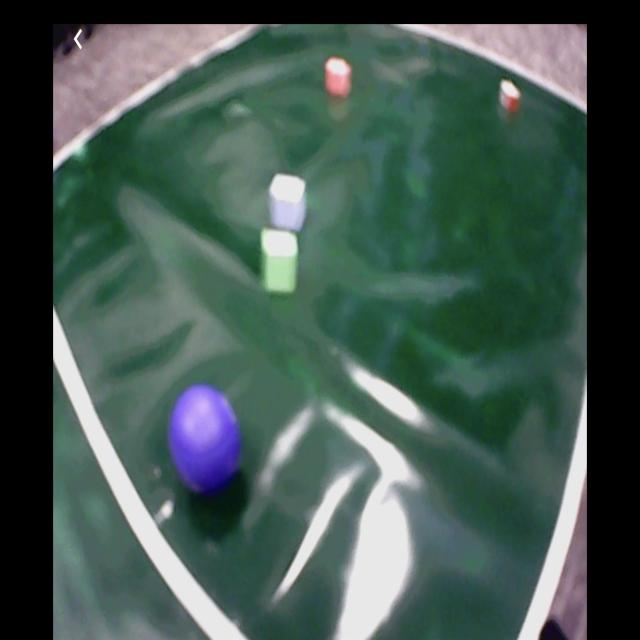ball: (171, 387, 242, 494)
